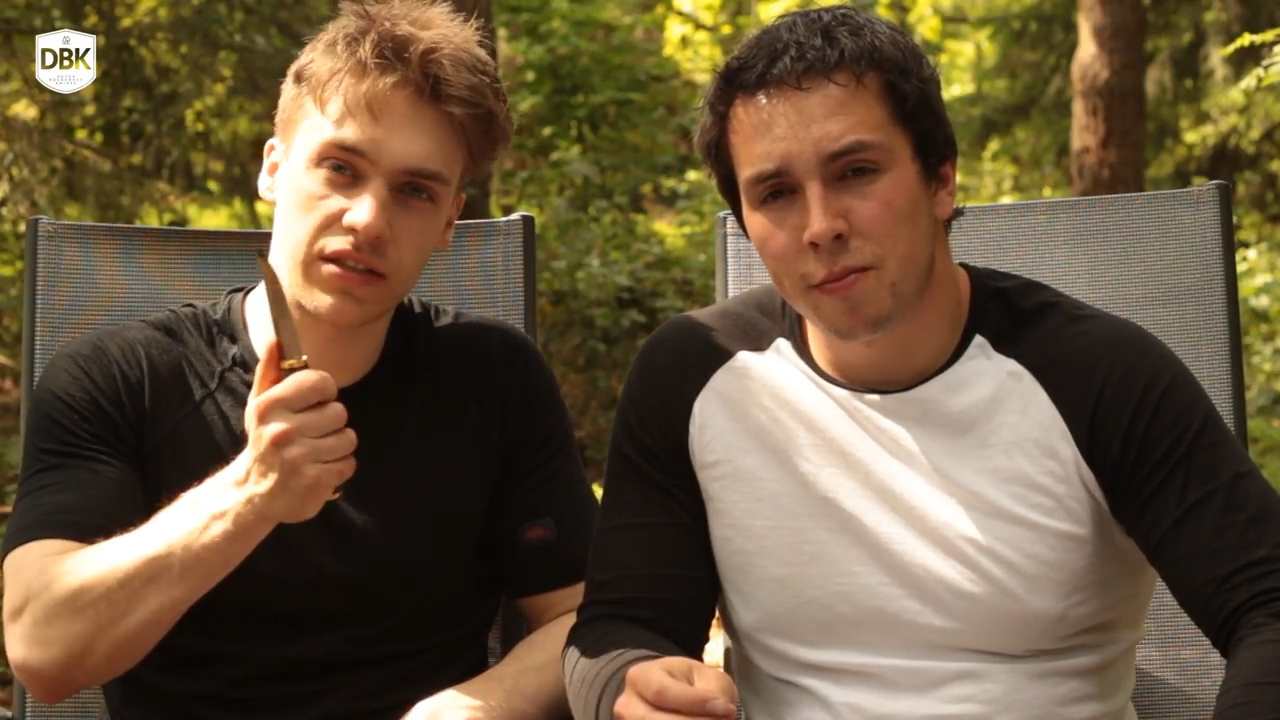knife: (229, 236, 367, 454)
